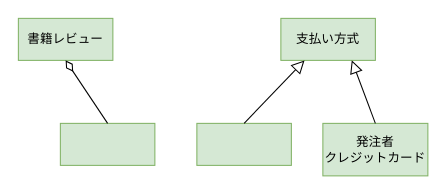
The diagram is 446 pixels wide and 194 high, and some of its shapes have lost their labels. The centre of each missing label's shape, as x and y in pixels:
"書籍" goes at pixel 107 143.
"発注者" goes at pixel 243 143.
